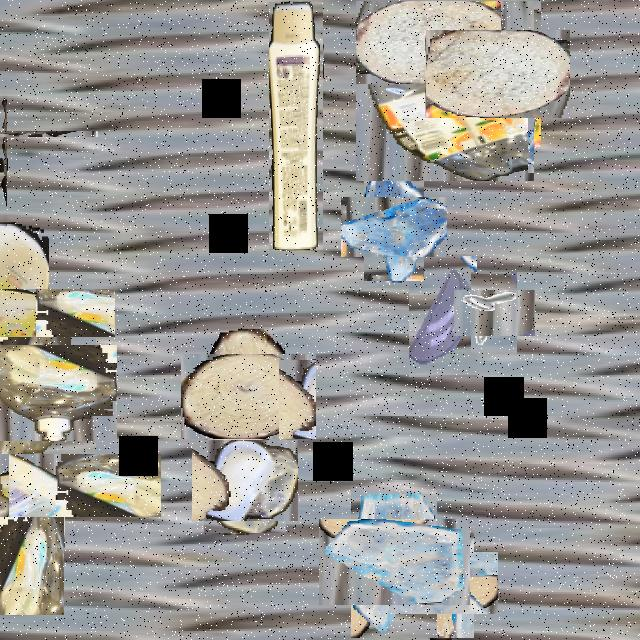glass: (334, 502, 454, 622), (409, 256, 477, 377), (352, 186, 436, 269)
metal: (462, 281, 526, 345)
plastic: (355, 1, 535, 180), (0, 404, 112, 566), (269, 2, 323, 250), (0, 334, 106, 451), (0, 255, 82, 370), (198, 433, 292, 527)
wood: (438, 16, 556, 133), (194, 341, 304, 452), (400, 540, 486, 626), (0, 84, 52, 182), (0, 379, 31, 427)
